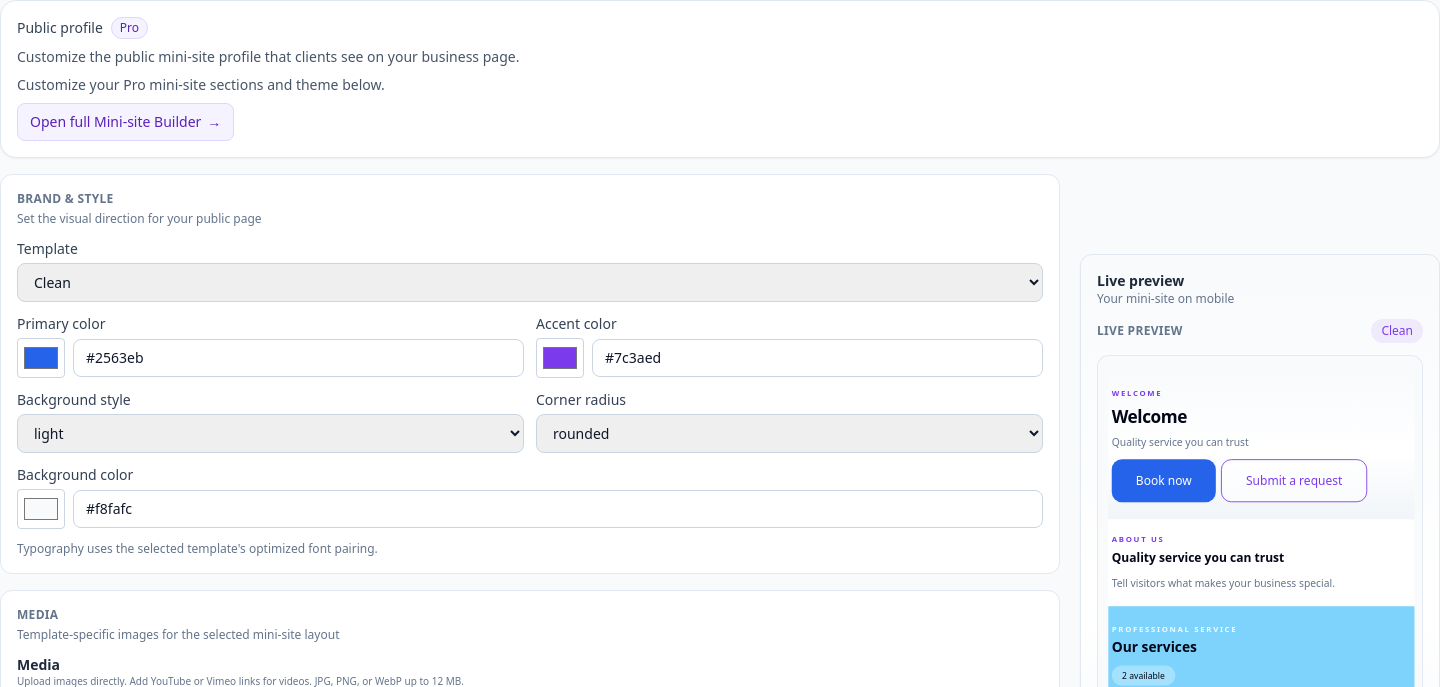
Test case: PublicProfileSettingsCard › shows portfolio image slots and hides clinic slots when portfolio is selected
Step 1. Select "Portfolio" in the dropdown with test id "mini-site-template" → (530, 282), box [17,263,1043,302]
(page scrolled)
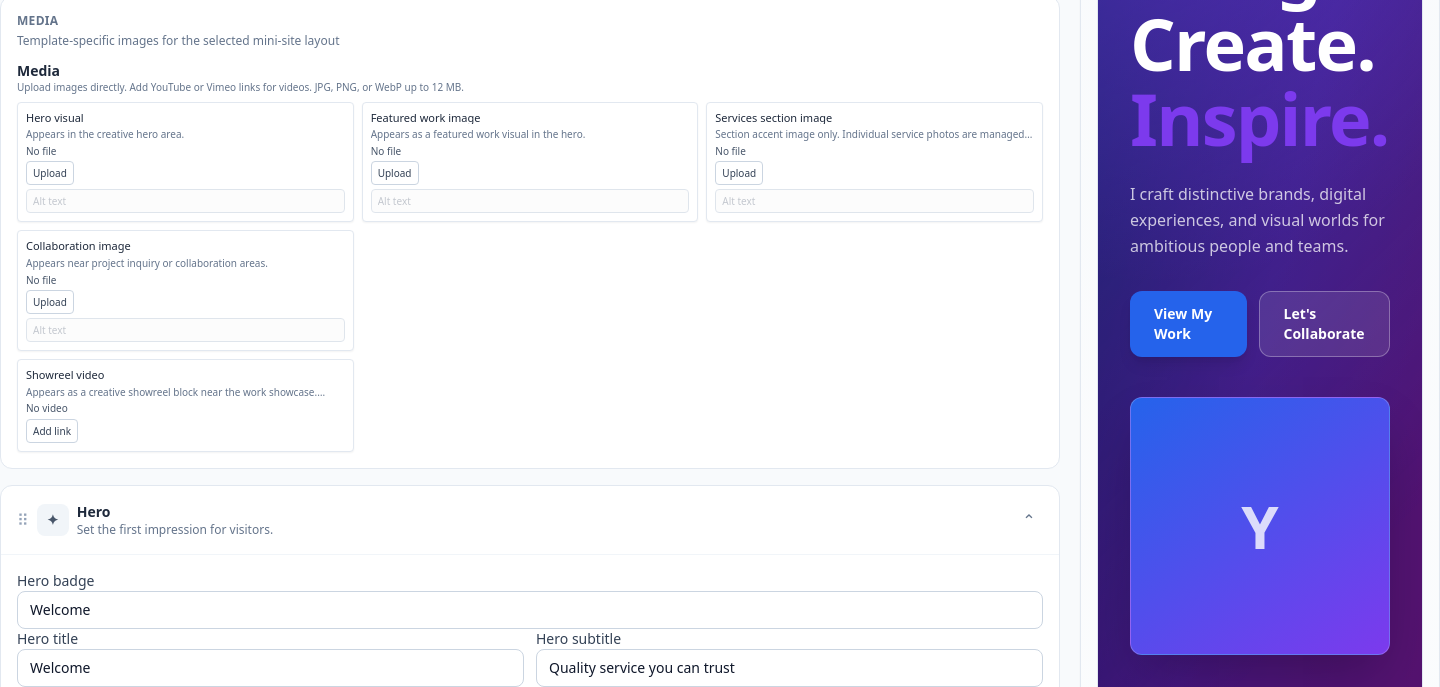
Expected: the element with test id "mini-site-media-slot-heroVisual" shows "Hero visual", [26,110,84,124]
Expected: the element with test id "mini-site-media-slot-collaborationImage" shows "Collaboration image", [26,238,131,253]
Expected: the element with test id "mini-site-media-slot-showreelVideo" shows "Showreel video", [26,367,104,382]
